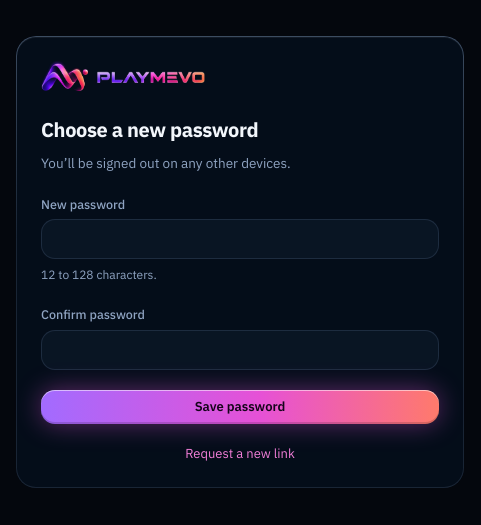
Test case: the reset password page › keeps invalid-link recovery on the page
Type "long-enough-password" into the password field labelled "New password" at (240, 240), box [41,220,439,260]
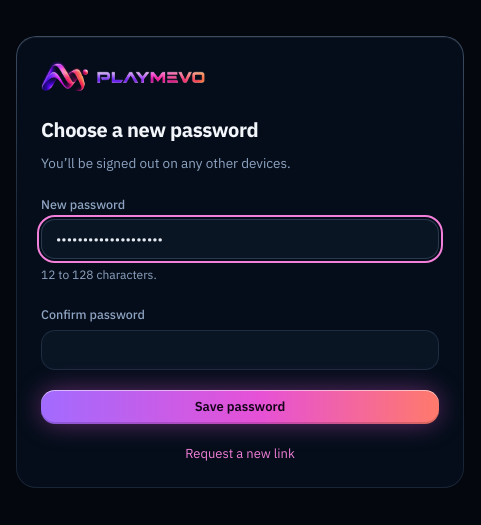
Type "long-enough-password" into the password field labelled "Confirm password" at (240, 350), box [41,330,439,370]
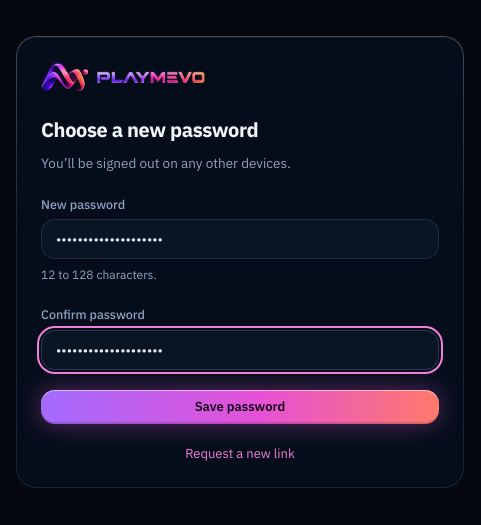
Click the button "Save password" at (240, 407), box [41,390,439,424]
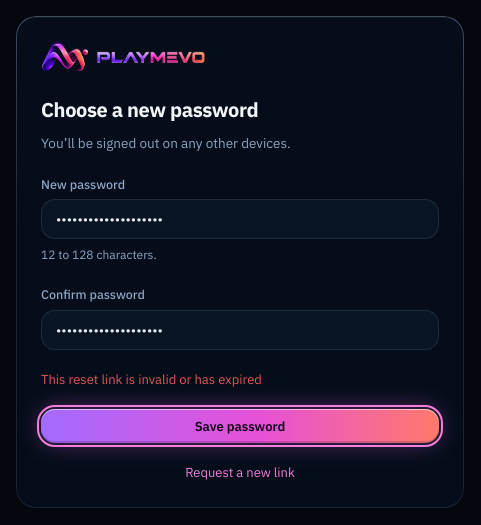
Expected: the message shows "invalid or has expired", [41,371,262,388]
